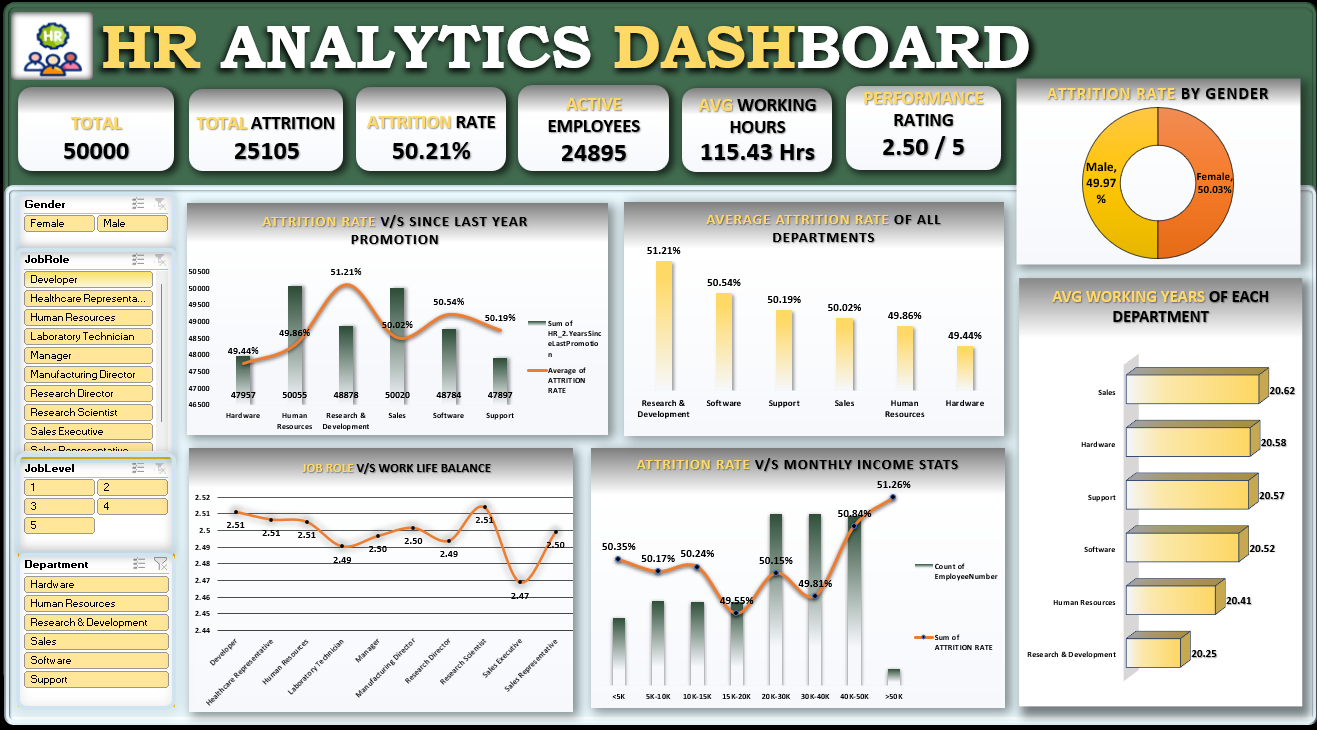

What the dashboard file says about the page in this screenshot:
{"tool":"tableau","page":{"name":"HR ANALYTICS","canvas":[1000,1000],"units":"permille","ordinal":0},"visuals":[{"type":"image","param":"Image/hr-manager-black-glyph-icon-coordinates-recruitment-process-human-resource","box":[4.8,10,56.1,106.1]},{"type":"title","box":[61,10,838.3,106.1]},{"type":"image","param":"Image/Image20250526154934.png","box":[899.2,10,96,106.1]},{"type":"worksheet","title":"KPI (2)","mark":"Automatic","box":[4.8,116.1,141.5,149.8]},{"type":"worksheet","title":"KPI","mark":"Automatic","box":[146.3,116.1,141.5,149.8]},{"type":"worksheet","title":"KPI (4)","mark":"Automatic","box":[287.8,116.1,141.5,149.8]},{"type":"worksheet","title":"KPI (6)","mark":"Automatic","box":[429.2,116.1,141.5,149.8]},{"type":"worksheet","title":"KPI (7)","mark":"Automatic","box":[570.7,116.1,141.5,149.8]},{"type":"worksheet","title":"KPI (3)","mark":"Automatic","box":[712.2,116.1,141.5,149.8]},{"type":"worksheet","title":"KPI (5)","mark":"Automatic","box":[853.6,116.1,141.5,149.8]},{"type":"filter","title":"Average Attrition Rate for all department.","param":"[federated.1351uje00w4ev41bkiqwd1rhjftp].[none:Department:nk]","box":[4.8,265.9,92.3,350.8]},{"type":"worksheet","title":"Average Attrition Rate for all department.","mark":"Pie","box":[97.2,265.9,307.2,350.8]},{"type":"worksheet","title":"Attrition rate vs monthly income stats","mark":"Automatic","rows":["Calculation_776307987345670146"],"cols":["Monthly Income (bin)"],"box":[404.3,265.9,321.1,350.8]},{"type":"worksheet","title":"Average working years for each department","mark":"Automatic","rows":["Department"],"cols":["TotalWorkingYears"],"box":[725.4,265.9,269.8,350.8]},{"type":"filter","title":"Job role vs work-life balance","param":"[federated.1351uje00w4ev41bkiqwd1rhjftp].[none:JobRole:nk]","box":[4.8,616.7,92.3,360.8]},{"type":"worksheet","title":"Attrition rate vs years since last promotion","mark":"Area","rows":["Calculation_776307987346313219"],"cols":["Years Since Last Promotion (bin)"],"box":[97.2,616.7,458.7,373.3]},{"type":"worksheet","title":"Attrition Rate vs Age Group","mark":"Circle","box":[555.8,616.7,230.6,373.3]},{"type":"worksheet","title":"Job role vs work-life balance","mark":"Square","rows":["JobRole"],"box":[786.4,616.7,208.7,373.3]}]}

Visuals, with their boxes on the dashboard's canvas, which has no fixed pixel size, in thousandths of its width and height (x1, y1, x2, y2). These are canvas units, not pixel positions in the 1317x730 screenshot, which may show the page scaled, cropped or inside an application window:
image: [x1=5, y1=10, x2=61, y2=116]
title: [x1=61, y1=10, x2=899, y2=116]
image: [x1=899, y1=10, x2=995, y2=116]
"KPI (2)" worksheet: [x1=5, y1=116, x2=146, y2=266]
"KPI" worksheet: [x1=146, y1=116, x2=288, y2=266]
"KPI (4)" worksheet: [x1=288, y1=116, x2=429, y2=266]
"KPI (6)" worksheet: [x1=429, y1=116, x2=571, y2=266]
"KPI (7)" worksheet: [x1=571, y1=116, x2=712, y2=266]
"KPI (3)" worksheet: [x1=712, y1=116, x2=854, y2=266]
"KPI (5)" worksheet: [x1=854, y1=116, x2=995, y2=266]
"Average Attrition Rate for all department." filter: [x1=5, y1=266, x2=97, y2=617]
"Average Attrition Rate for all department." worksheet (Pie marks): [x1=97, y1=266, x2=404, y2=617]
"Attrition rate vs monthly income stats" worksheet: [x1=404, y1=266, x2=725, y2=617]
"Average working years for each department" worksheet: [x1=725, y1=266, x2=995, y2=617]
"Job role vs work-life balance" filter: [x1=5, y1=617, x2=97, y2=978]
"Attrition rate vs years since last promotion" worksheet (Area marks): [x1=97, y1=617, x2=556, y2=990]
"Attrition Rate vs Age Group" worksheet (Circle marks): [x1=556, y1=617, x2=786, y2=990]
"Job role vs work-life balance" worksheet (Square marks): [x1=786, y1=617, x2=995, y2=990]
